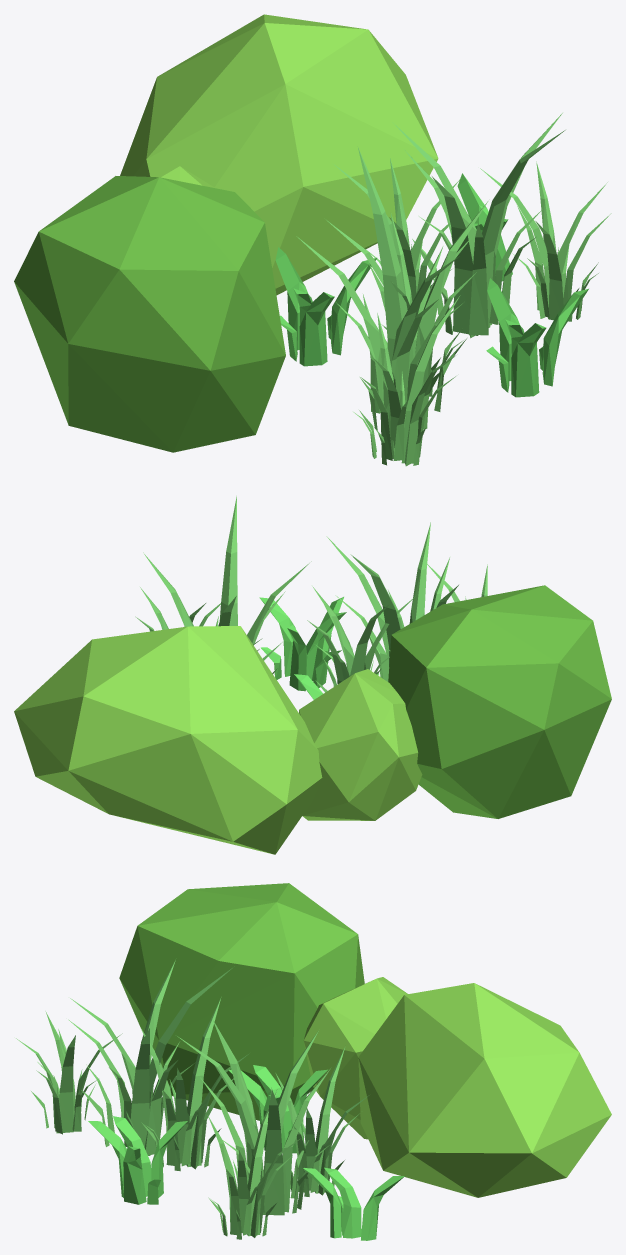
File: vegetacion2.glb
The picture shows the model from 3 angles, top to bottom: view 1: azimuth 30°, elevation 25°; view 2: azimuth 150°, elevation 25°; view 3: azimuth 270°, elevation 25°; orthographic projection. The views are drawn at different scales.
Visible parts, largest first — view 1: Cube.039_6, Icosphere.023_5, Cube.058_45, Cube.061_44, Cylinder.003_57, Cylinder.014_47; view 2: Cube.039_6, Icosphere.023_5, Cube.058_45, Cylinder.003_57, Cube.061_44; view 3: Cube.039_6, Icosphere.023_5, Cube.058_45, Cube.061_44, Cylinder.003_57, Cylinder.014_47.
Part boxes in pixels (x1,y1,x2,y2): Cube.039_6: [14, 166, 285, 452]; Icosphere.023_5: [120, 14, 438, 295]; Cube.058_45: [296, 146, 488, 466]; Cube.061_44: [334, 113, 611, 338]; Cylinder.003_57: [275, 247, 588, 397]; Cylinder.014_47: [457, 173, 512, 281]; Cube.039_6: [299, 585, 611, 820]; Icosphere.023_5: [14, 626, 322, 854]; Cube.058_45: [307, 522, 487, 692]; Cylinder.003_57: [259, 597, 378, 699]; Cube.061_44: [135, 496, 311, 673]; Cube.039_6: [119, 883, 407, 1139]; Icosphere.023_5: [358, 983, 611, 1197]; Cube.058_45: [16, 959, 249, 1171]; Cube.061_44: [177, 1019, 369, 1239]; Cylinder.003_57: [88, 1065, 327, 1204]; Cylinder.014_47: [303, 1167, 404, 1240].
Bounding box in the file's own units: 0.9352 × 0.4292 × 1.05.
